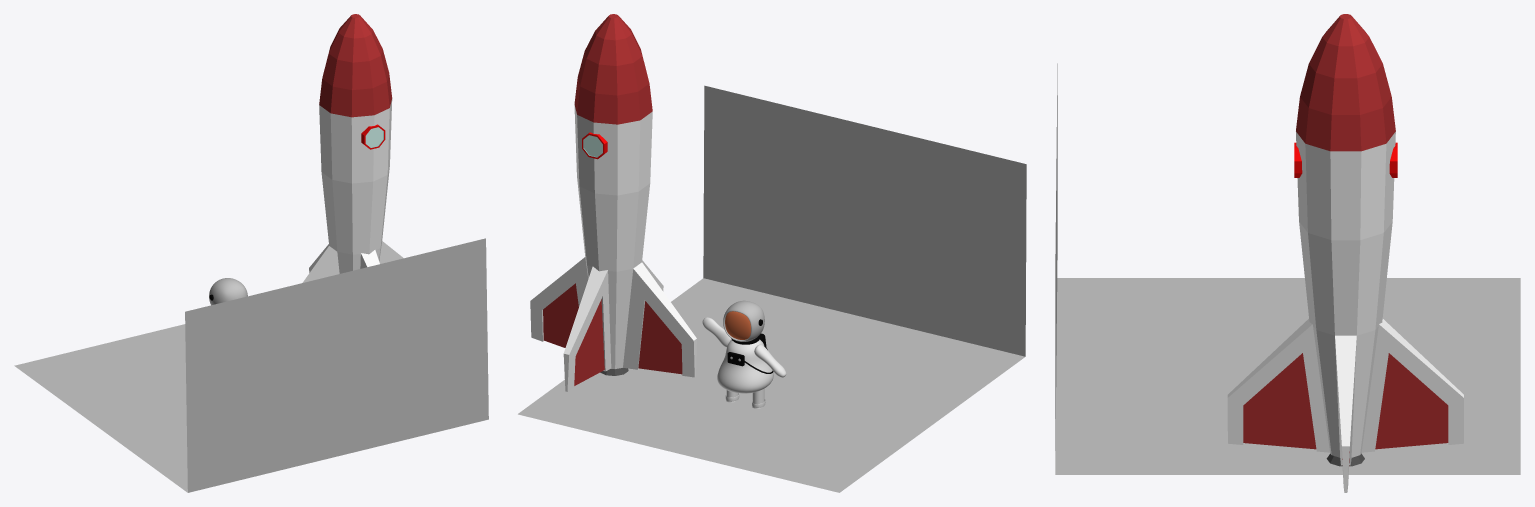
File: ASTRO.glb
3 views of the same model, side by side, from view 1: azimuth 30°, elevation 25°; view 2: azimuth 150°, elevation 25°; view 3: azimuth 270°, elevation 25° (orthographic). The views are drawn at different scales.
Parts seen in each view (by area): view 1: Plane, Rocket, Helmet; view 2: Plane, Rocket, Cube, Helmet, Cube.006; view 3: Plane, Rocket.
Part boxes in pixels (x1,y1,x2,y2): Plane: (14,238,488,492); Rocket: (302,14,403,282); Helmet: (209,278,247,305); Plane: (518,85,1026,492); Rocket: (530,14,696,391); Cube: (717,339,773,393); Helmet: (723,300,764,341); Cube.006: (725,311,750,339); Plane: (1055,63,1520,474); Rocket: (1227,14,1463,492).
Size of the model in its own units: 11.6 by 10.58 by 9.85.
Materials: 4 (1 with a texture image).
